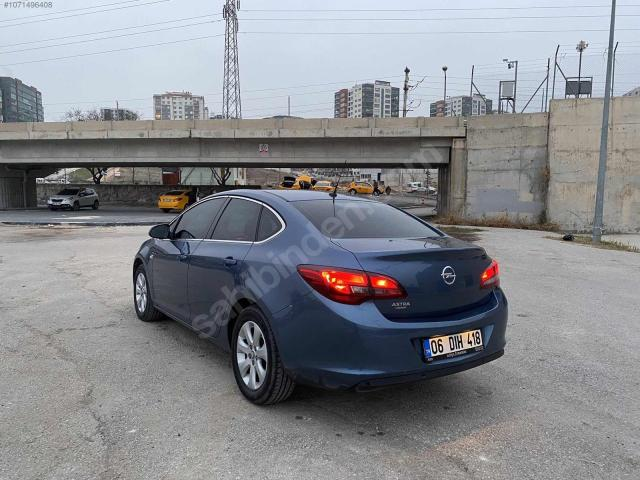plaka: (424, 329, 483, 360)
